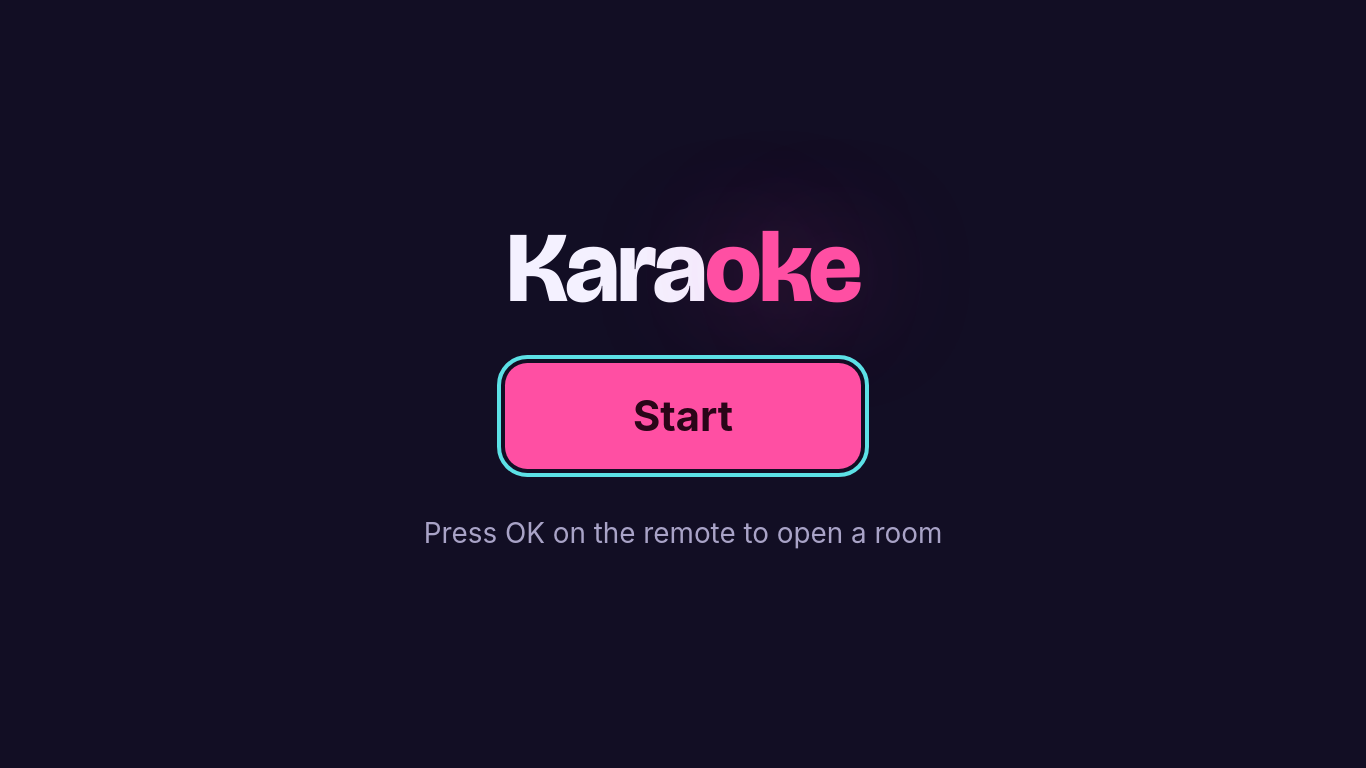
Test case: Stage › creates a room on start, shows its code and plays the first entry
Click the button "Start": (683,416) 505,363 -> 861,469
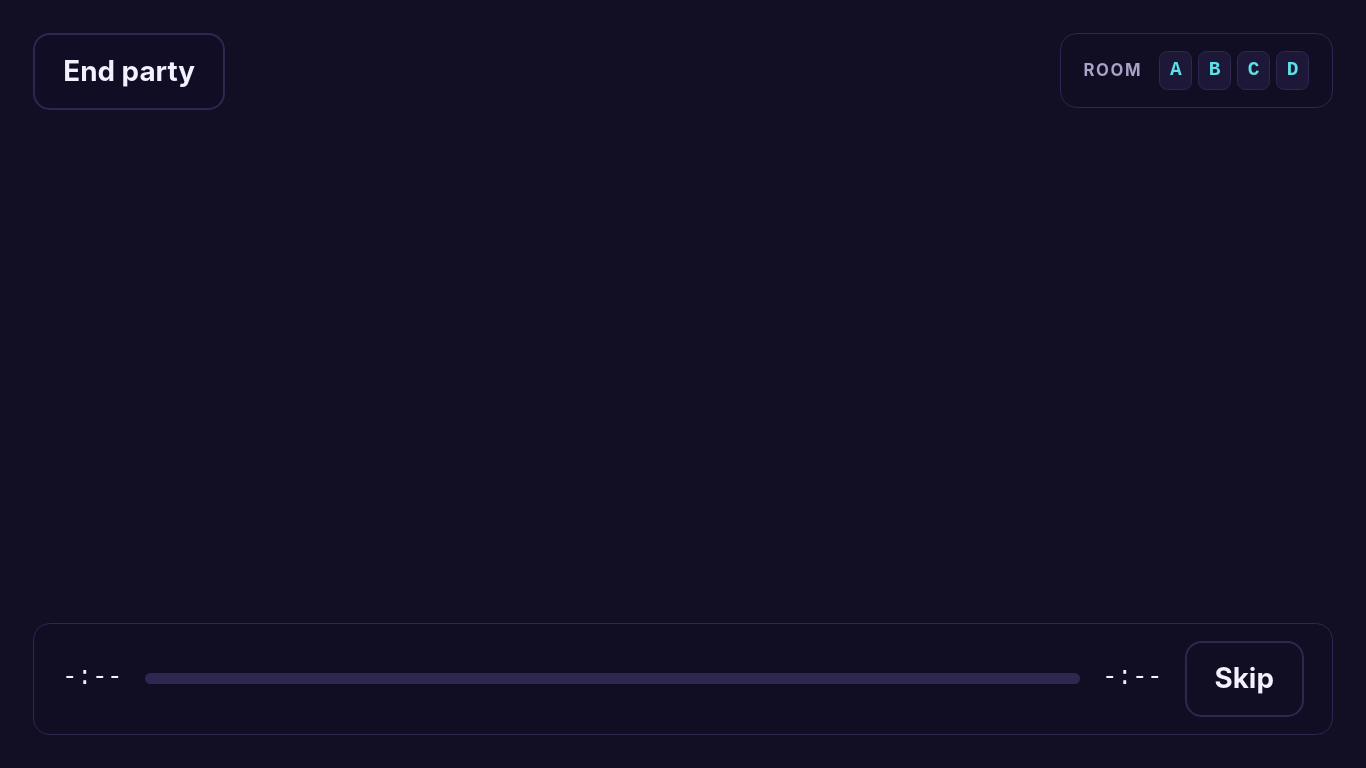
expect the button "Start" is gone: met
